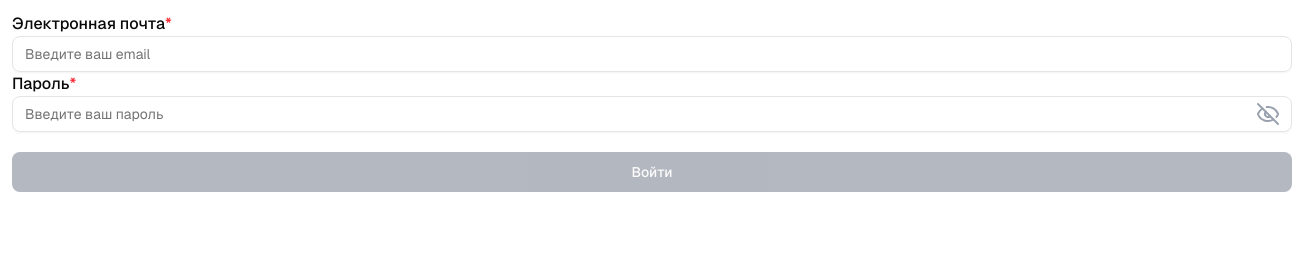
Test: LoginForm › валидирует форму перед отправкой
Expected: the button "Войти" is disabled, x1=12 y1=152 x2=1292 y2=192
In the field with placeholder "Введите ваш email": (652, 54) x1=12 y1=36 x2=1292 y2=72, type "invalid-email"
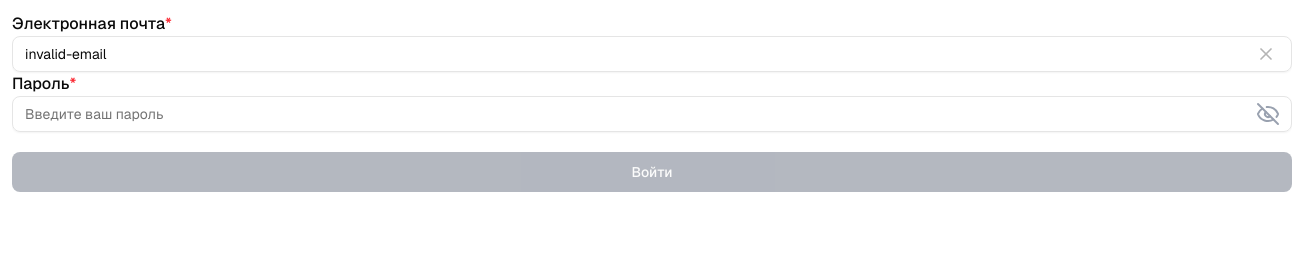
In the password field with placeholder "Введите ваш пароль": (652, 114) x1=12 y1=96 x2=1292 y2=132, type "123"
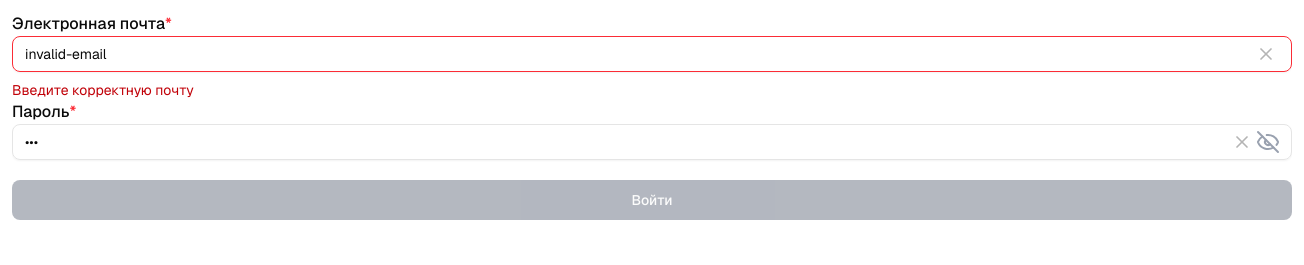
Expected: the button "Войти" is disabled, x1=12 y1=180 x2=1292 y2=220
Clear the field with placeholder "Введите ваш email": (652, 54) x1=12 y1=36 x2=1292 y2=72
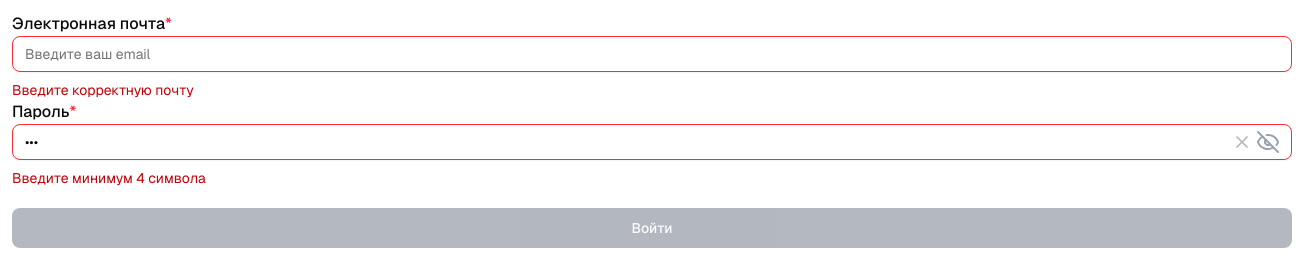
Clear the password field with placeholder "Введите ваш пароль": (652, 142) x1=12 y1=124 x2=1292 y2=160
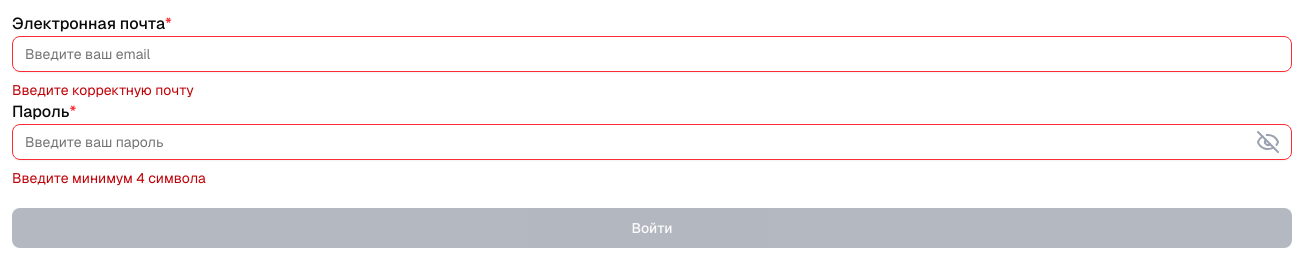
In the field with placeholder "Введите ваш email": (652, 54) x1=12 y1=36 x2=1292 y2=72, type "valid@example.com"
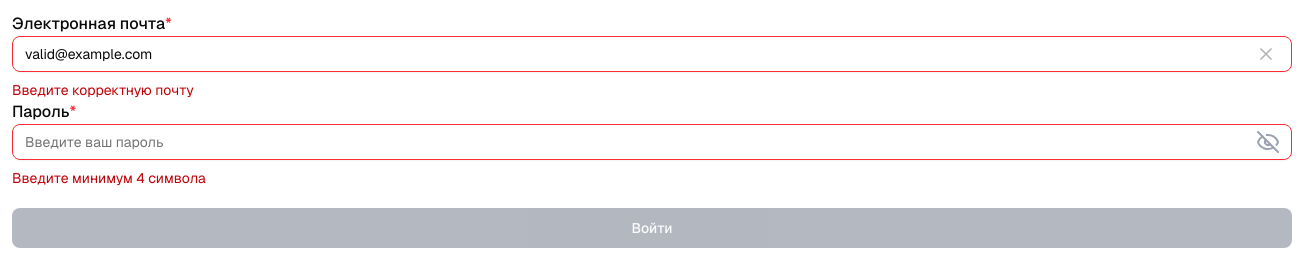
In the password field with placeholder "Введите ваш пароль": (652, 142) x1=12 y1=124 x2=1292 y2=160, type "validPassword123"
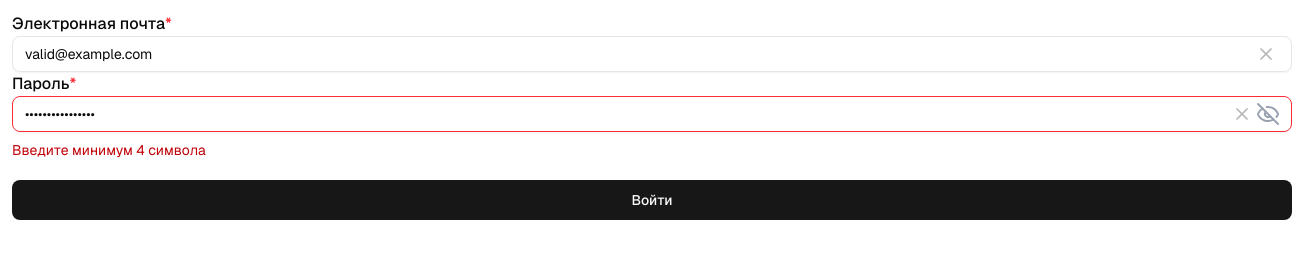
Expected: the button "Войти" is enabled, x1=12 y1=180 x2=1292 y2=220
